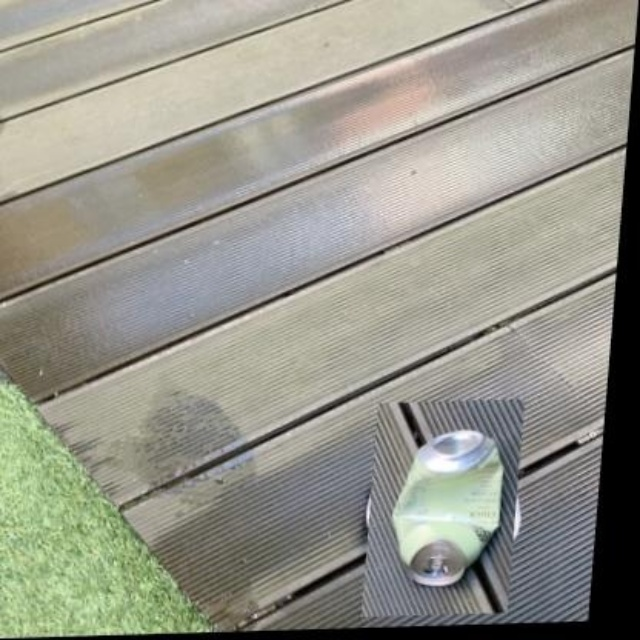trash: (392, 429, 502, 585)
